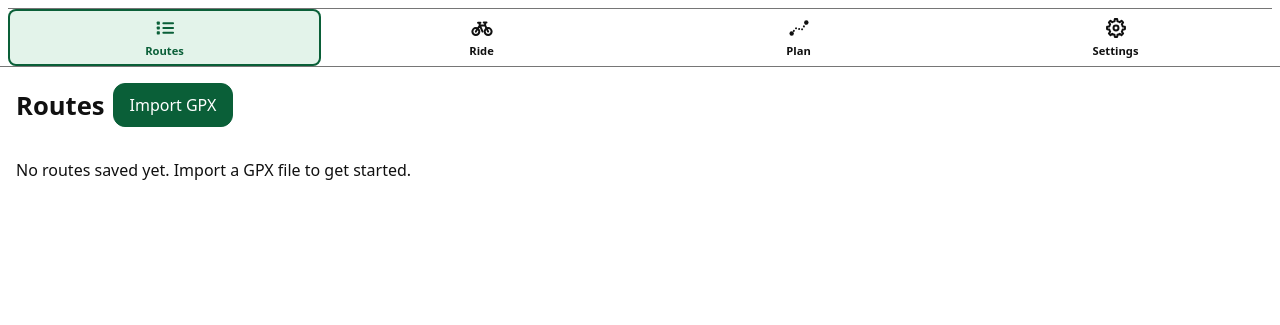
App › shows the empty Ride state, and Choose a route returns to Routes
This screenshot has width=1280, height=325.
Click the button "Ride" at (482, 38), box [325,9,638,66]
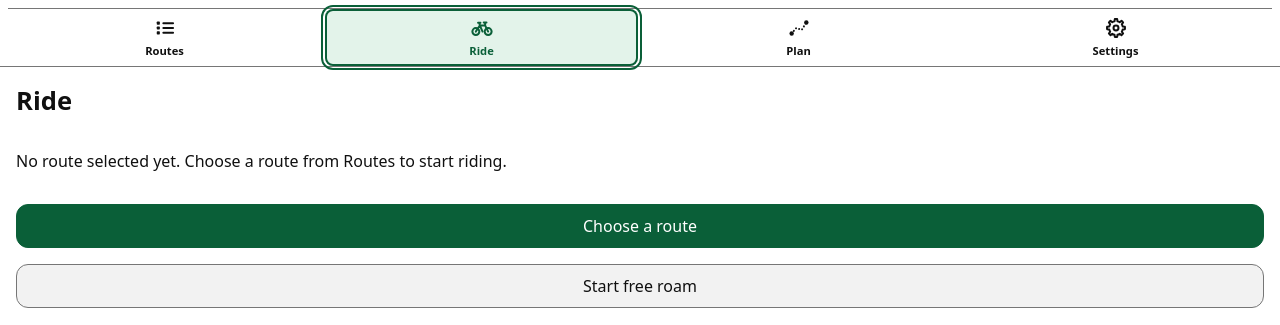
Check: the heading "Ride" is shown, box [16,83,72,118]
Click the button "Choose a route" at (640, 226), box [16,204,1264,248]
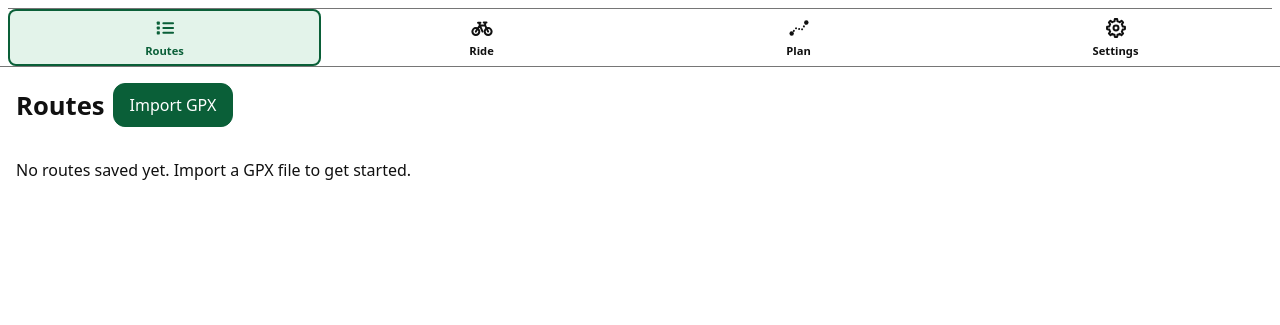
Check: the heading "Routes" is shown, box [16,88,104,122]
